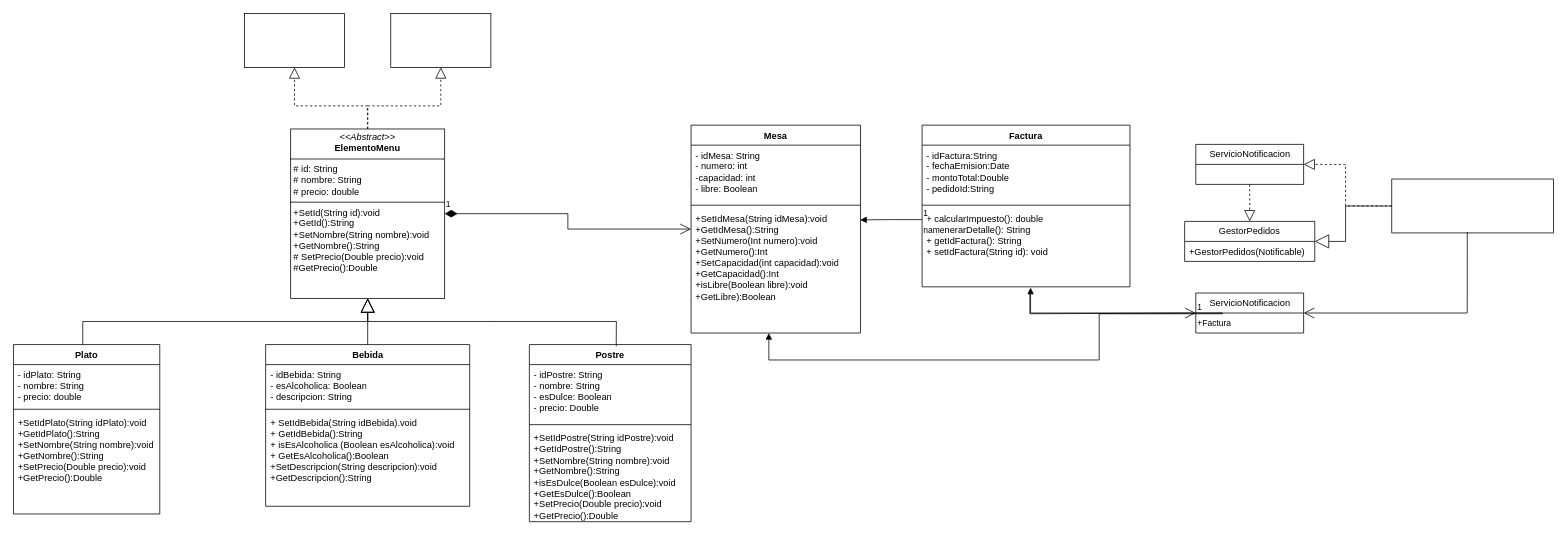
The diagram is 1567 pixels wide and 537 high, and some of its shapes have lost their labels. Here are the shapes that lost their labels. From the top down, the centre of each, then its label:
the point at 294,40: <<Interface>> Preparable +preparar()
the point at 440,40: <<Interface>> Servible + Servir()
the point at 1472,205: <<Interface>> Notificable +enviarNotificacion(String,String):void
